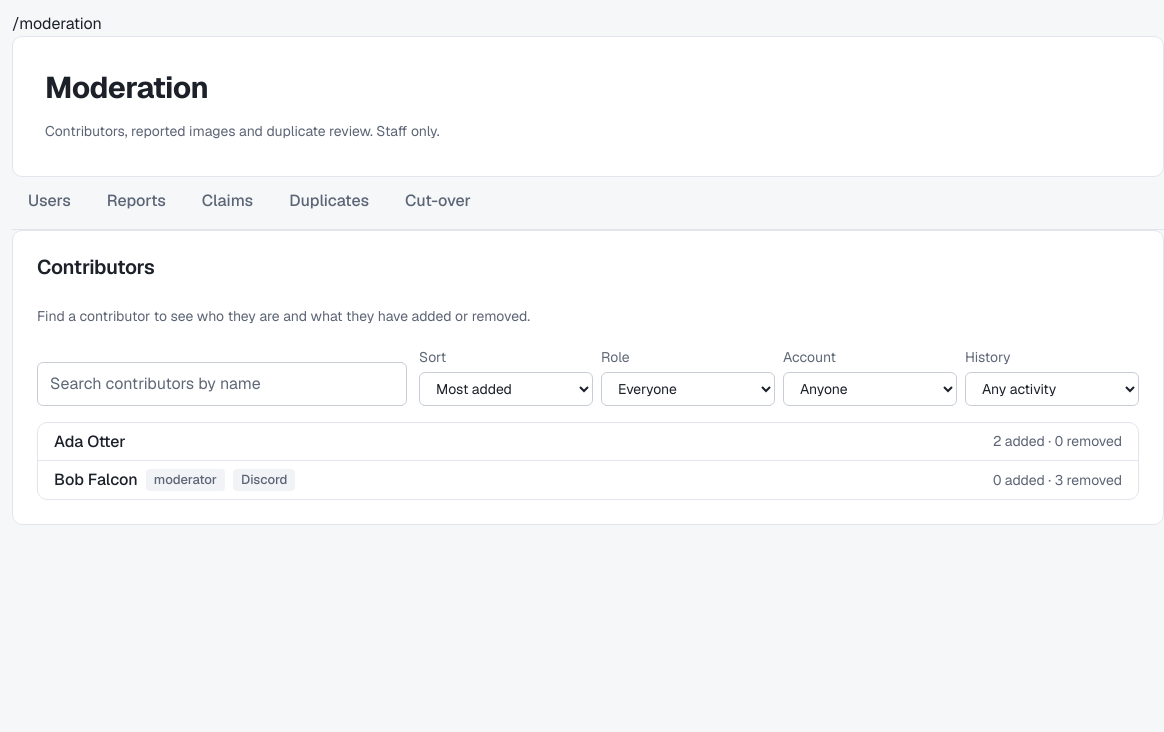
opening on the finder › narrows the list by role
Check: the button "Ada Otter 2 added · 0 removed" is shown, box [38,422,1138,460]
Select "Staff only" in the dropdown labelled "Role" at (688, 388), box [601,372,775,406]
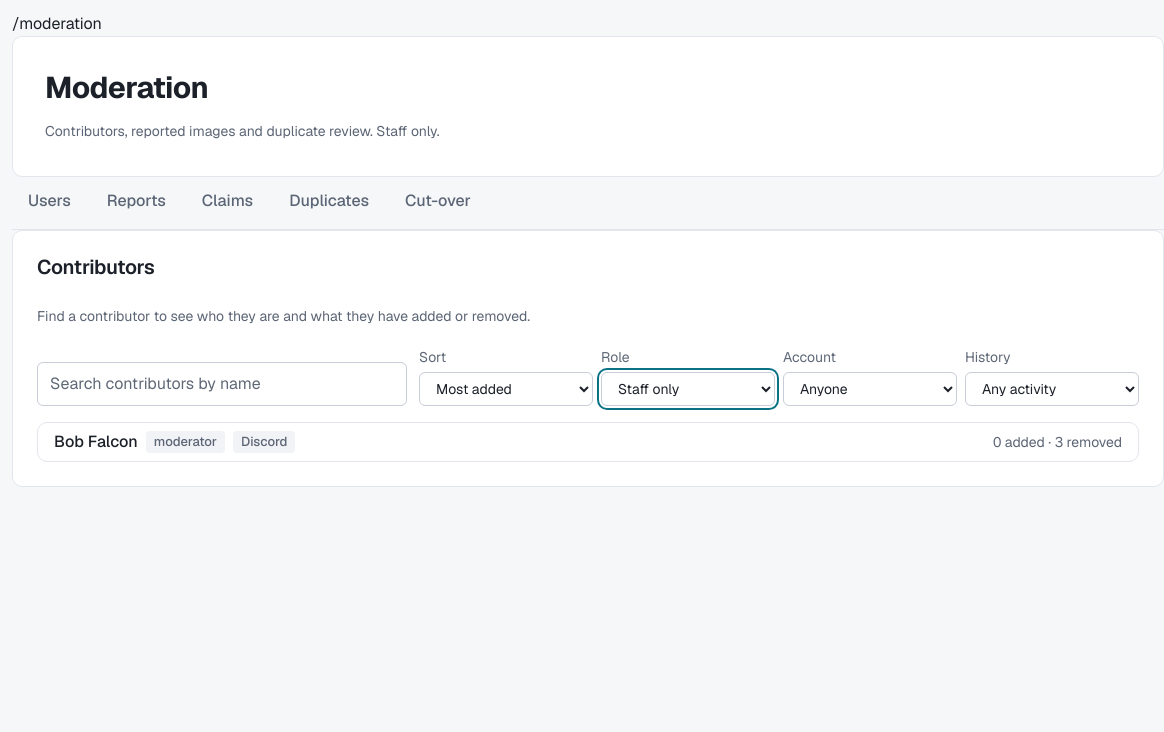
Check: the button "Bob Falcon moderator Discord 0 added · 3 removed" is shown, box [38,422,1138,461]
Check: the button "Ada Otter" is gone
